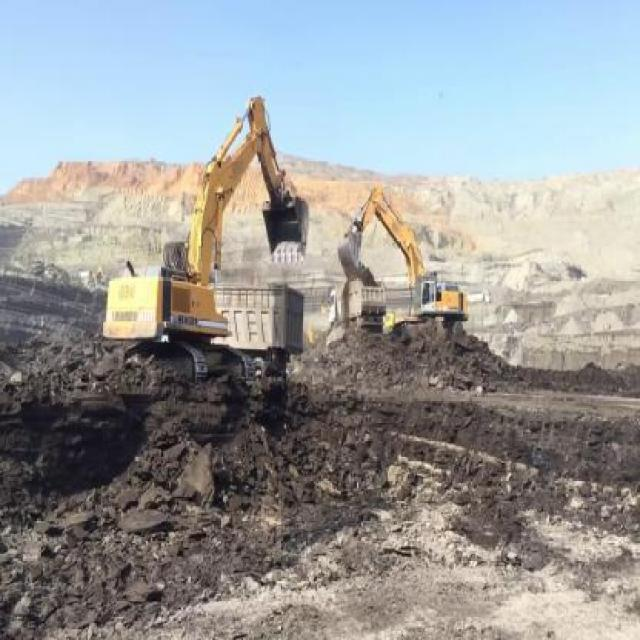Dump Truck: (228, 286, 298, 394), (328, 284, 389, 324)
Excavator: (96, 98, 310, 394), (335, 171, 467, 334)
